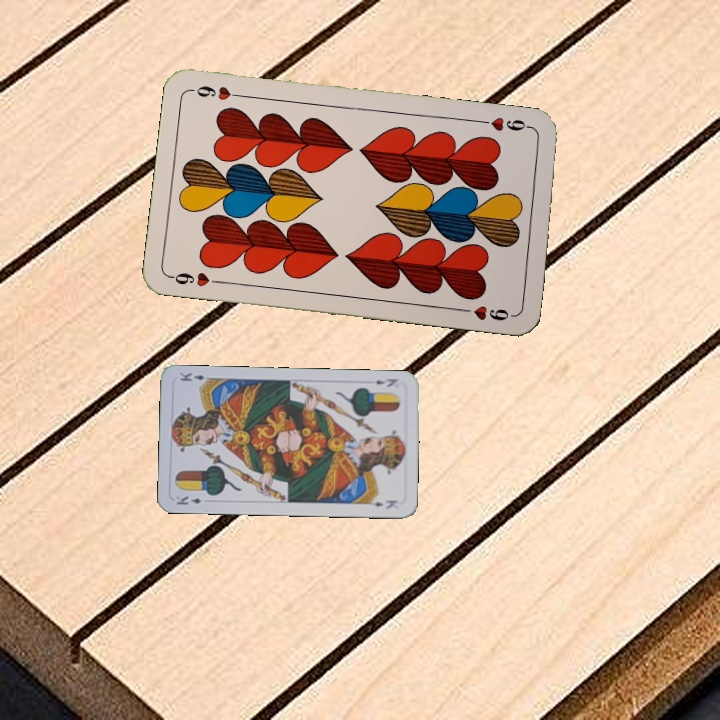EK: (172, 492, 203, 507), (371, 374, 400, 390)
H9: (166, 268, 226, 290), (476, 113, 535, 134)
